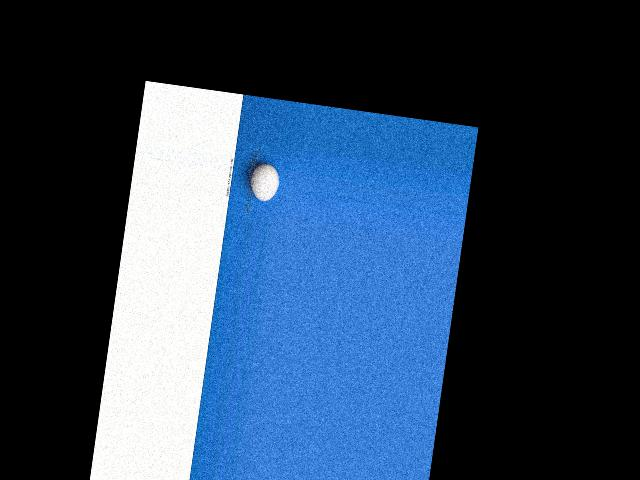egg: (247, 161, 280, 202)
